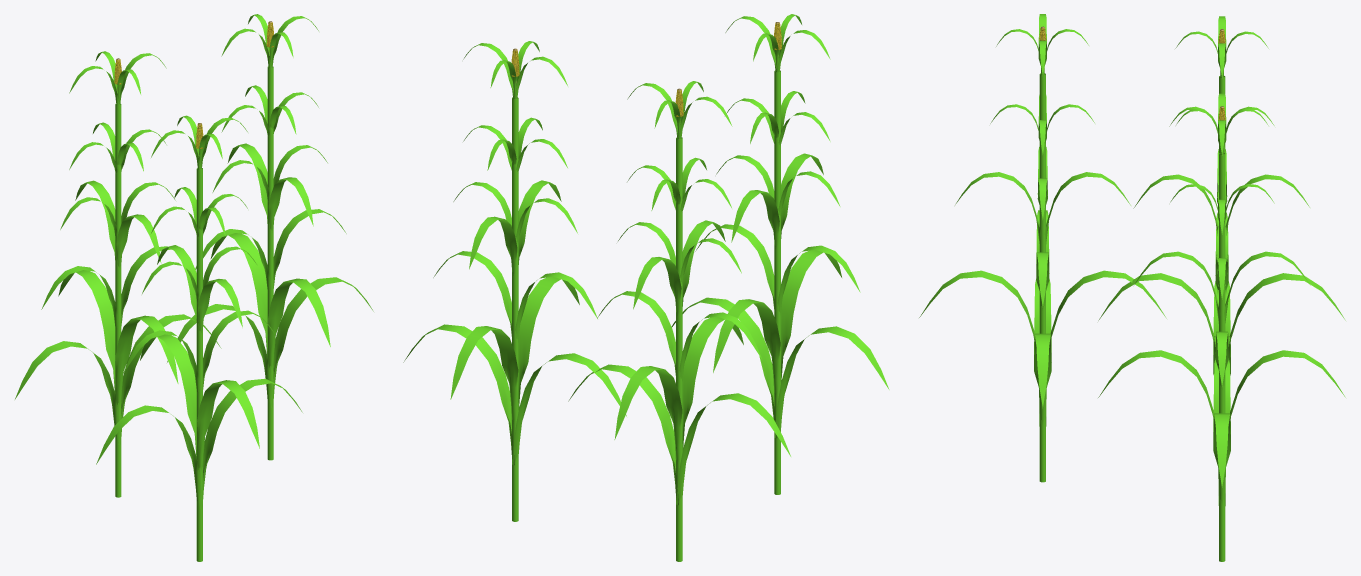
The model's file is plants.gltf.
3 renders of one model, left to right at view 1: azimuth 30°, elevation 25°; view 2: azimuth 150°, elevation 25°; view 3: azimuth 270°, elevation 25°, orthographic. The views are drawn at different scales.
Visible parts, largest first — view 1: mkai.002, mkai.001, mkai; view 2: mkai.001, mkai, mkai.002; view 3: mkai.001, mkai.002, mkai.
Boxes of the visible parts, <box> form: mkai.002: <box>96,115,302,561</box>; mkai.001: <box>167,14,373,460</box>; mkai: <box>15,51,221,497</box>; mkai.001: <box>403,41,626,521</box>; mkai: <box>568,81,790,561</box>; mkai.002: <box>671,14,889,494</box>; mkai.001: <box>1098,93,1345,561</box>; mkai.002: <box>919,14,1166,482</box>; mkai: <box>1098,16,1345,375</box>.
Size of what is drawn, in the model's own units: 3.65 by 4.17 by 3.57.
